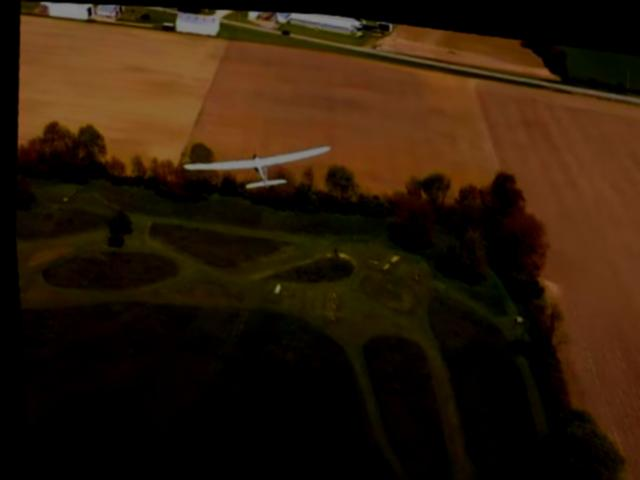iha: (179, 122, 328, 198)
